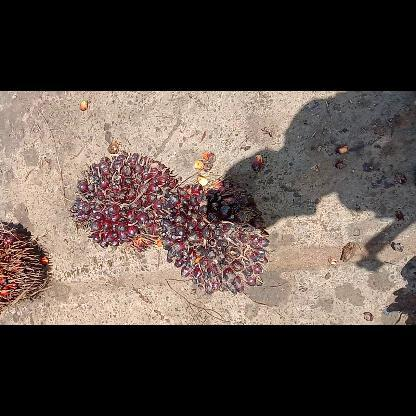Kurang masak: (157, 179, 273, 299), (67, 151, 179, 251)
